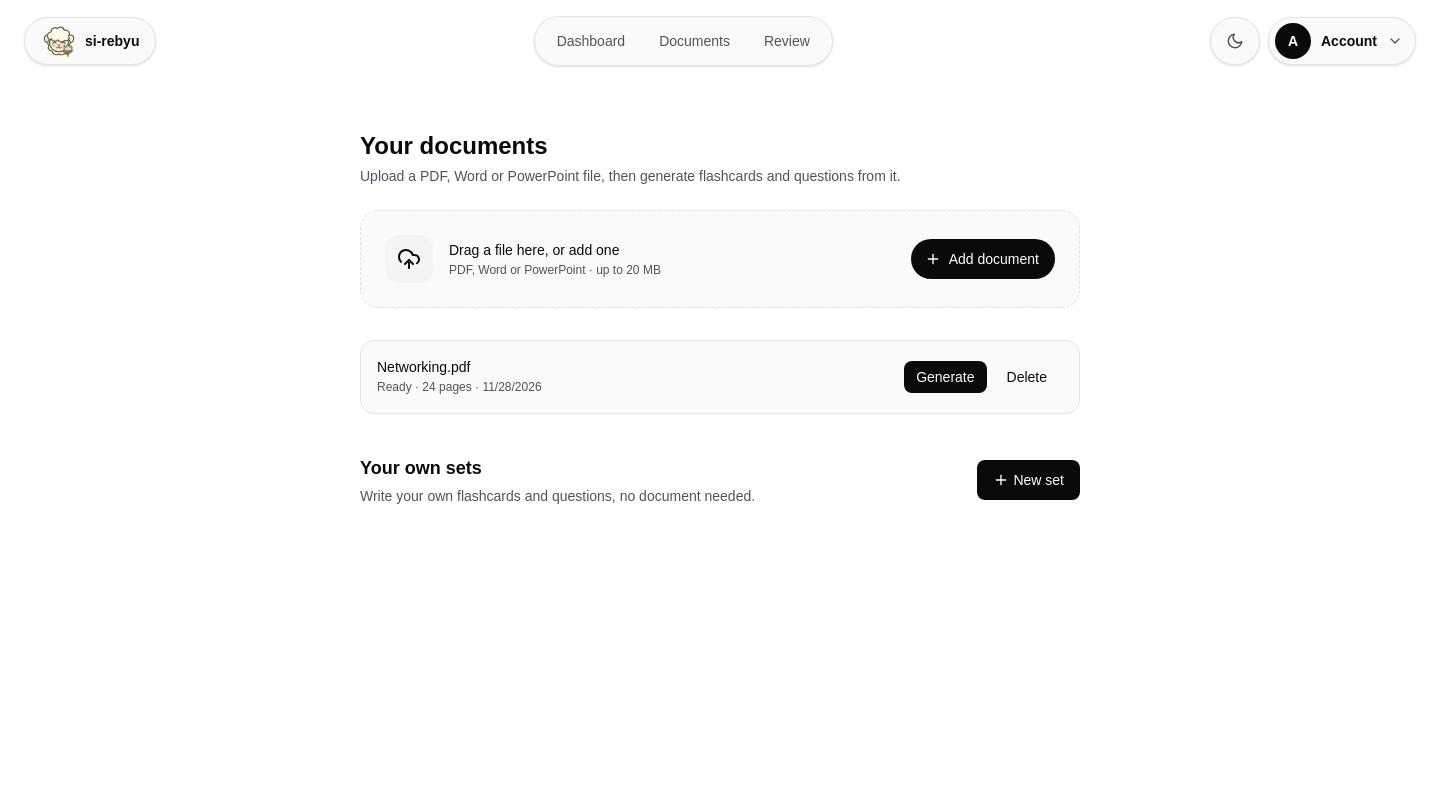
Test case: Documents page › starting a generation closes the modal and refreshes the study sets
The image size is (1440, 810).
Click the button "Generate". click: (945, 377)
box: [904,361,987,393]
(page scrolled)
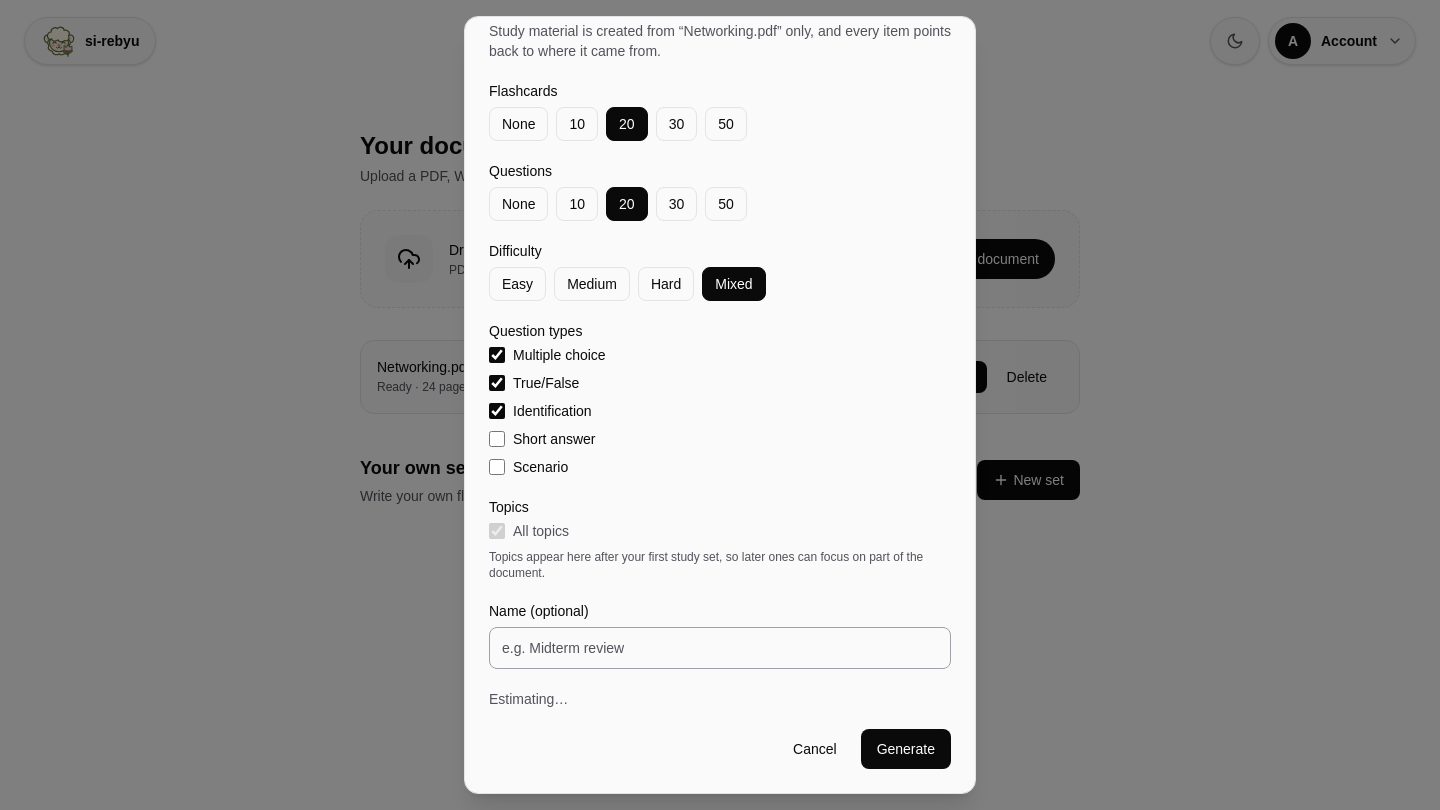
Check: the button "Generate" is enabled
Click the button "Generate". click: (906, 749)
box: [861,729,951,769]
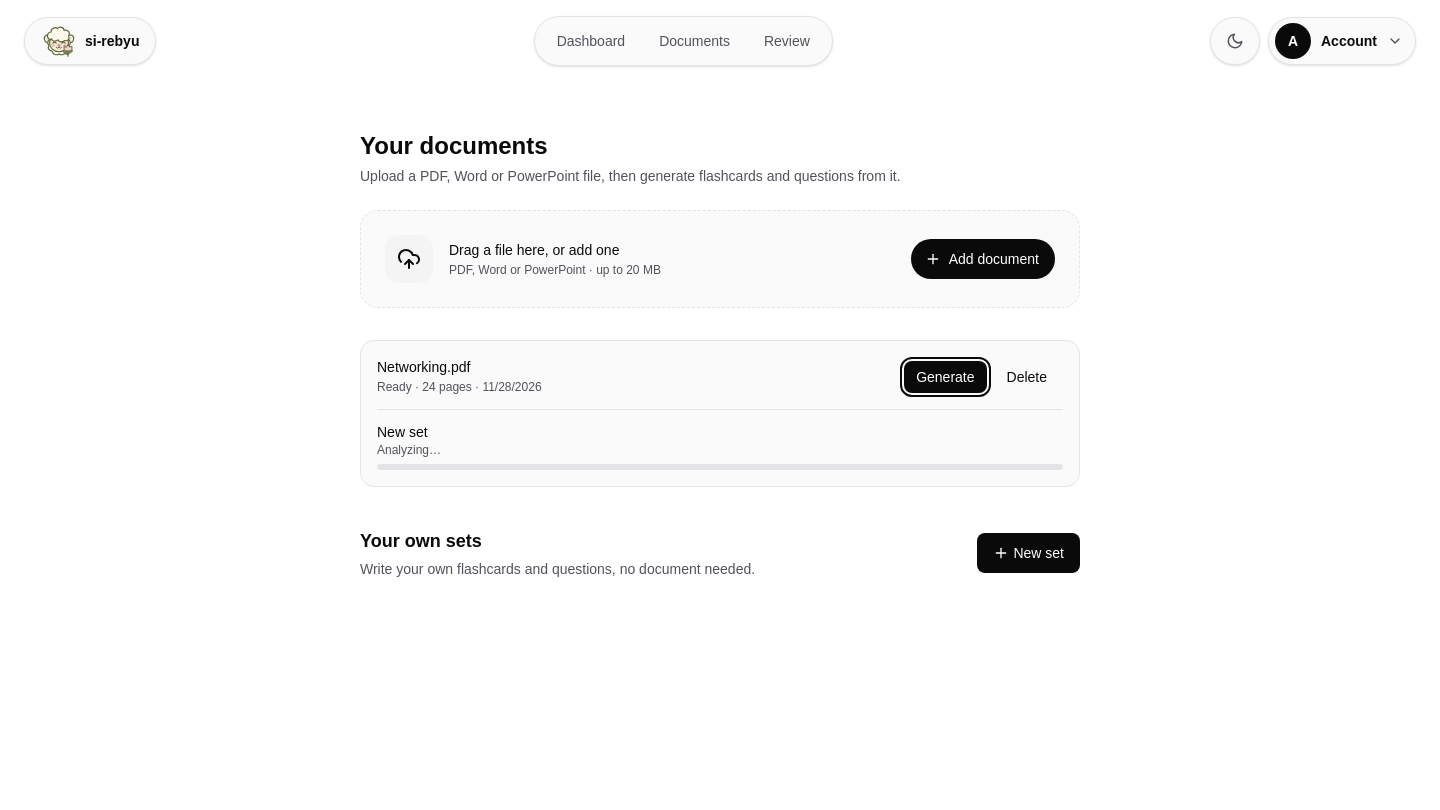
Check: the dialog is gone
Check: the text "New set" is shown, box [377,424,428,440]
